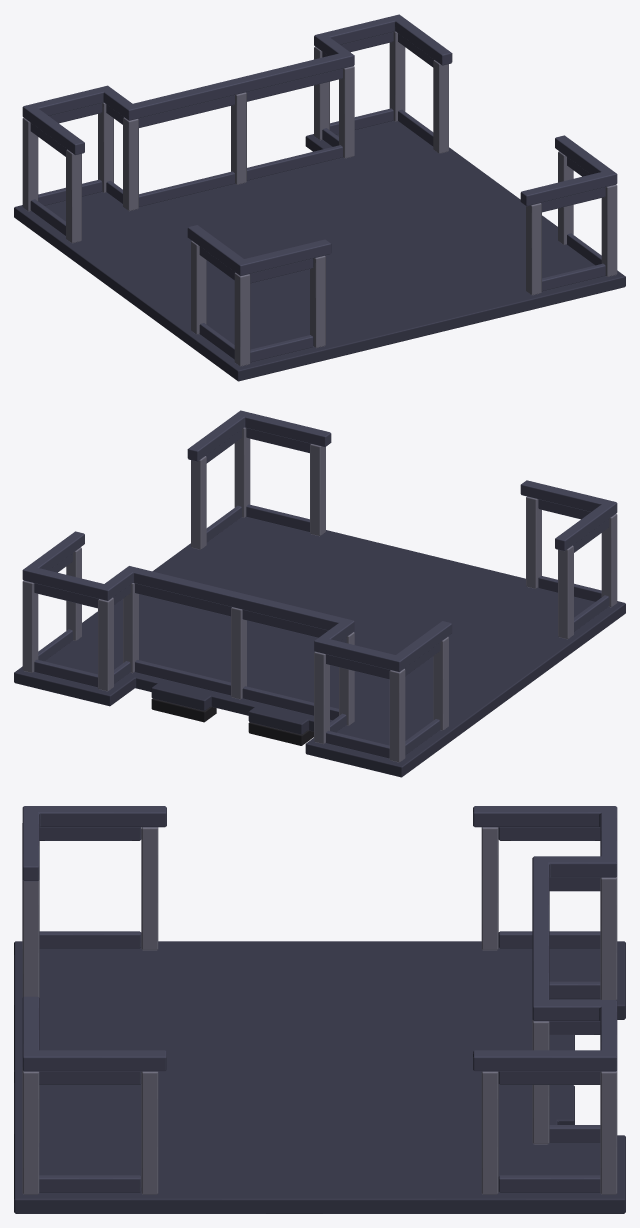
File: ElevatorBody.fbx
The picture shows the model from 3 angles, top to bottom: view 1: azimuth 30°, elevation 25°; view 2: azimuth 150°, elevation 25°; view 3: azimuth 270°, elevation 25°; orthographic projection. The views are drawn at different scales.
Parts seen in each view (by area): view 1: ElevatorPlatform, ElevatorRailing; view 2: ElevatorPlatform, ElevatorRailing; view 3: ElevatorPlatform, ElevatorRailing.
Part boxes in pixels (x1=…): ElevatorPlatform: x1=14, y1=121, x2=625, y2=381; ElevatorRailing: x1=22, y1=14, x2=617, y2=366; ElevatorPlatform: x1=14, y1=517, x2=625, y2=777; ElevatorRailing: x1=22, y1=410, x2=617, y2=762; ElevatorPlatform: x1=14, y1=941, x2=625, y2=1213; ElevatorRailing: x1=22, y1=806, x2=617, y2=1194.
Bounding box in the file's own units: 360 × 110 × 360.
